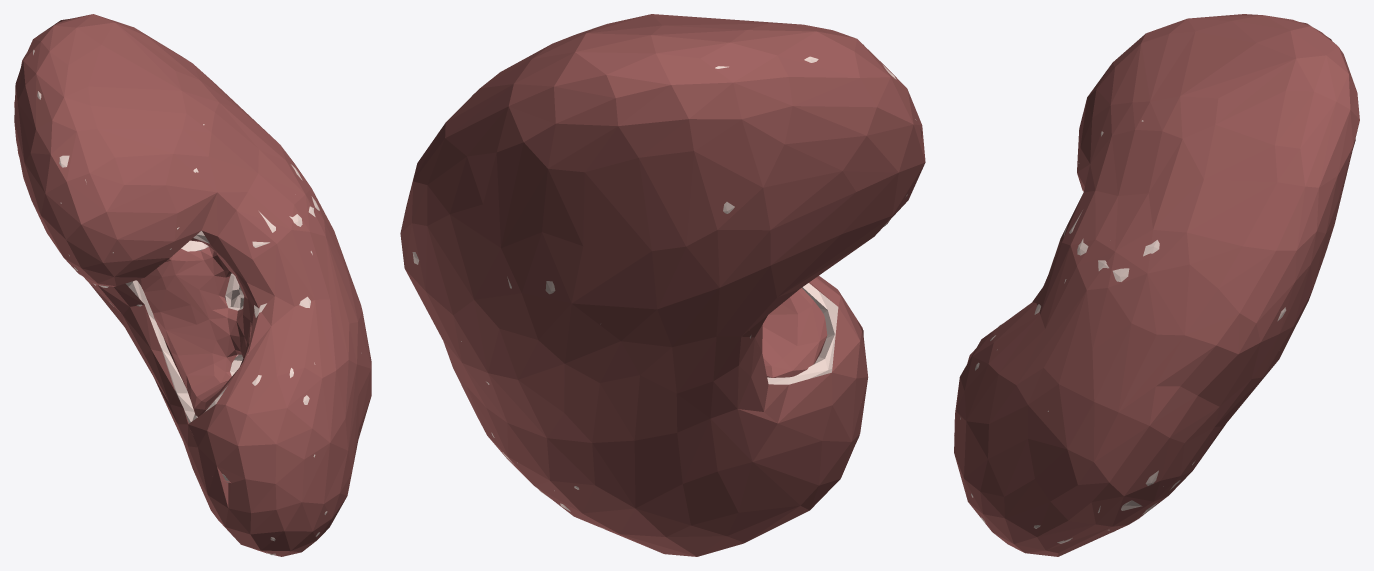
Rendered from VH_M_Kidney_L_0.1.glb.
3 views of the same model, side by side, from view 1: azimuth 30°, elevation 25°; view 2: azimuth 150°, elevation 25°; view 3: azimuth 270°, elevation 25° (orthographic). The views are drawn at different scales.
Visible parts, largest first — view 1: VH_M_kidney_capsule_L, VH_M_hilum_of_kidney_L, VH_M_outer_cortex_of_kidney_L, VH_M_renal_column_L; view 2: VH_M_kidney_capsule_L, VH_M_hilum_of_kidney_L, VH_M_outer_cortex_of_kidney_L; view 3: VH_M_kidney_capsule_L, VH_M_outer_cortex_of_kidney_L.
Boxes of the visible parts, x1,y1,x2,y2 form: VH_M_kidney_capsule_L: [14, 14, 371, 556]; VH_M_hilum_of_kidney_L: [136, 238, 254, 416]; VH_M_outer_cortex_of_kidney_L: [33, 50, 361, 554]; VH_M_renal_column_L: [181, 240, 243, 375]; VH_M_kidney_capsule_L: [400, 14, 925, 556]; VH_M_hilum_of_kidney_L: [762, 288, 827, 377]; VH_M_outer_cortex_of_kidney_L: [412, 56, 916, 528]; VH_M_kidney_capsule_L: [954, 14, 1359, 556]; VH_M_outer_cortex_of_kidney_L: [960, 120, 1325, 543].
Bounding box in the file's own units: 0.0763 × 0.1071 × 0.0827.
